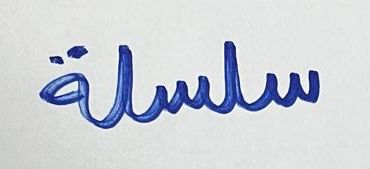lam: (105, 43, 142, 131)
seen: (251, 59, 326, 116), (148, 71, 216, 122)
tah: (220, 36, 247, 121)
teh_marbota: (35, 44, 101, 133)
